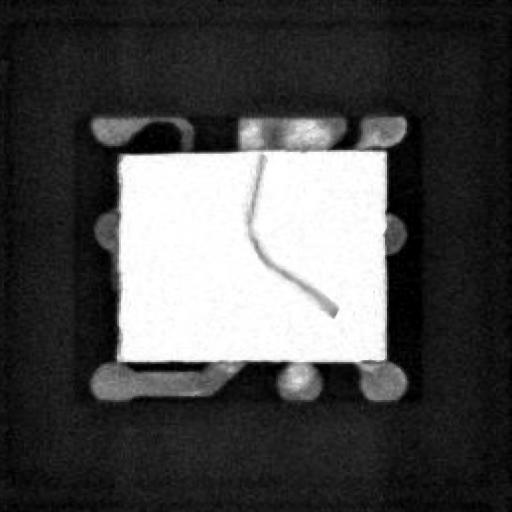DIE_INK: (230, 157, 320, 329)
